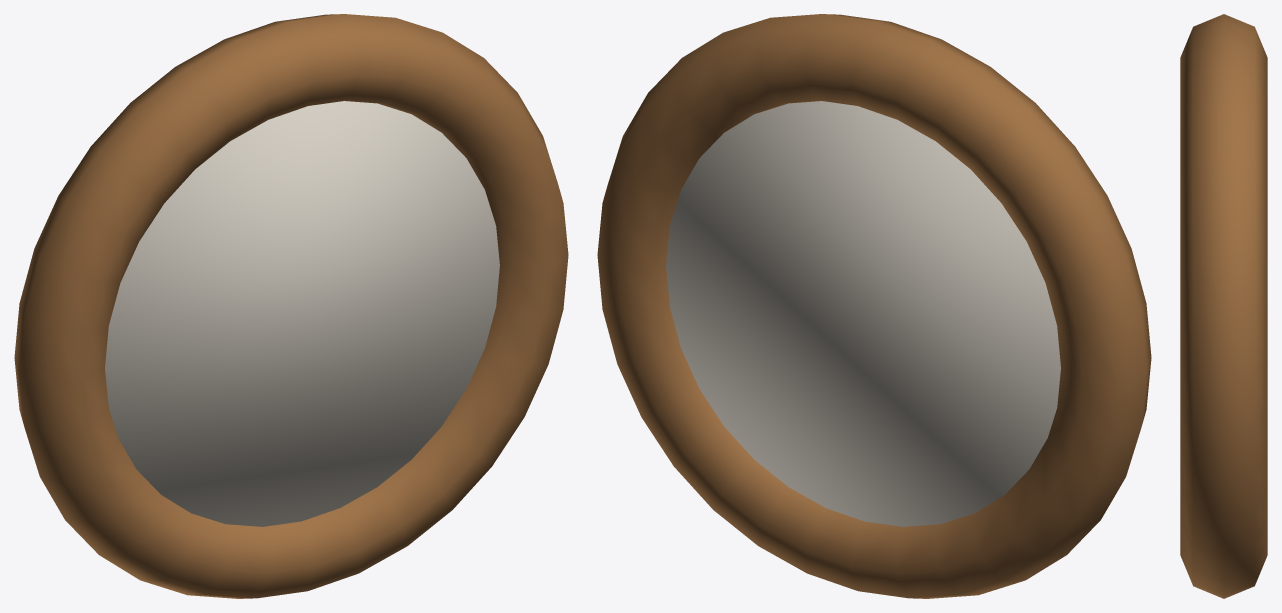
File: tuerschild.glb
3 views of the same model, side by side, from view 1: azimuth 30°, elevation 25°; view 2: azimuth 150°, elevation 25°; view 3: azimuth 270°, elevation 25° (orthographic). The views are drawn at different scales.
Parts seen in each view (by area): view 1: tuerschild-matt; view 2: tuerschild-matt; view 3: tuerschild-matt.
Boxes of the visible parts, x1=… form: tuerschild-matt: x1=14, y1=14, x2=568, y2=598; tuerschild-matt: x1=597, y1=14, x2=1151, y2=598; tuerschild-matt: x1=1180, y1=14, x2=1267, y2=598.
Size of the model in its own units: 0.47 by 0.47 by 0.07.
